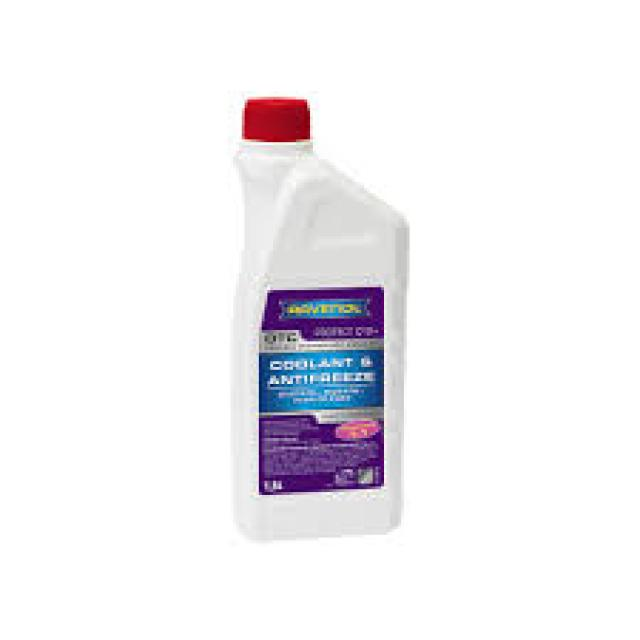coolant: (215, 81, 422, 555)
